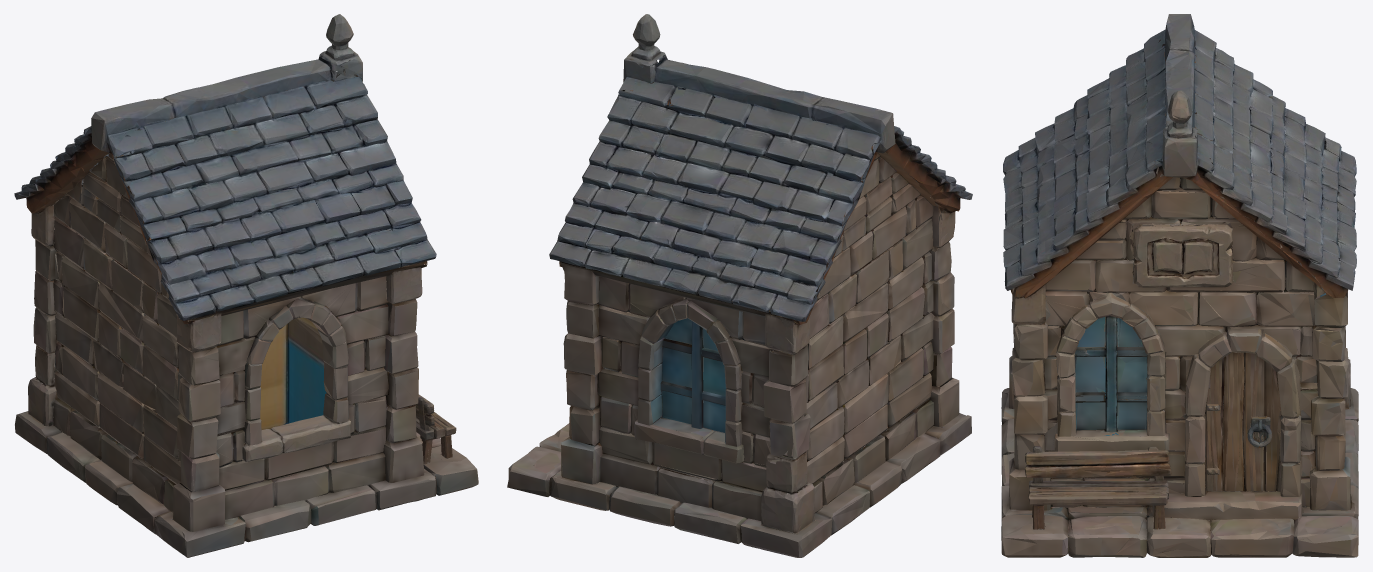
The model's file is academy_t1.glb.
3 renders of one model, left to right at view 1: azimuth 30°, elevation 25°; view 2: azimuth 150°, elevation 25°; view 3: azimuth 270°, elevation 25°, orthographic. The views are drawn at different scales.
Visible parts, largest first — view 1: tripo_part_10, tripo_part_3, tripo_part_11, tripo_part_4, tripo_part_2, tripo_part_15, tripo_part_5, tripo_part_0, tripo_part_8, tripo_part_1, tripo_part_14; view 2: tripo_part_10, tripo_part_13, tripo_part_11, tripo_part_15, tripo_part_14, tripo_part_8, tripo_part_3; view 3: tripo_part_10, tripo_part_3, tripo_part_13, tripo_part_5, tripo_part_9, tripo_part_11, tripo_part_6, tripo_part_8, tripo_part_1, tripo_part_12.
Boxes of the visible parts, <box> form: tripo_part_10: <box>15,153,478,557</box>; tripo_part_3: <box>114,71,436,318</box>; tripo_part_11: <box>14,51,362,323</box>; tripo_part_4: <box>193,315,326,429</box>; tripo_part_2: <box>242,415,350,461</box>; tripo_part_15: <box>28,345,56,426</box>; tripo_part_5: <box>416,394,456,464</box>; tripo_part_0: <box>176,313,221,352</box>; tripo_part_8: <box>320,14,358,74</box>; tripo_part_1: <box>386,264,422,303</box>; tripo_part_14: <box>31,200,58,247</box>; tripo_part_10: <box>507,105,971,557</box>; tripo_part_13: <box>549,81,880,321</box>; tripo_part_11: <box>619,51,972,324</box>; tripo_part_15: <box>761,436,814,533</box>; tripo_part_14: <box>765,314,809,354</box>; tripo_part_8: <box>626,14,665,68</box>; tripo_part_3: <box>648,61,972,199</box>; tripo_part_10: <box>1001,64,1358,557</box>; tripo_part_3: <box>1003,40,1172,298</box>; tripo_part_13: <box>1194,30,1356,297</box>; tripo_part_5: <box>1025,446,1171,529</box>; tripo_part_9: <box>1129,222,1233,287</box>; tripo_part_11: <box>1099,14,1354,299</box>; tripo_part_6: <box>1084,315,1124,435</box>; tripo_part_8: <box>1163,90,1197,139</box>; tripo_part_1: <box>1011,284,1045,325</box>; tripo_part_12: <box>1247,416,1272,448</box>.
Size of the model in its own units: 0.7219 by 0.9789 by 0.7197.
16 materials, 16 textured.
